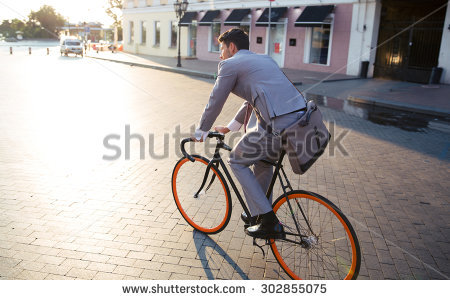bikerider: (163, 20, 368, 280)
